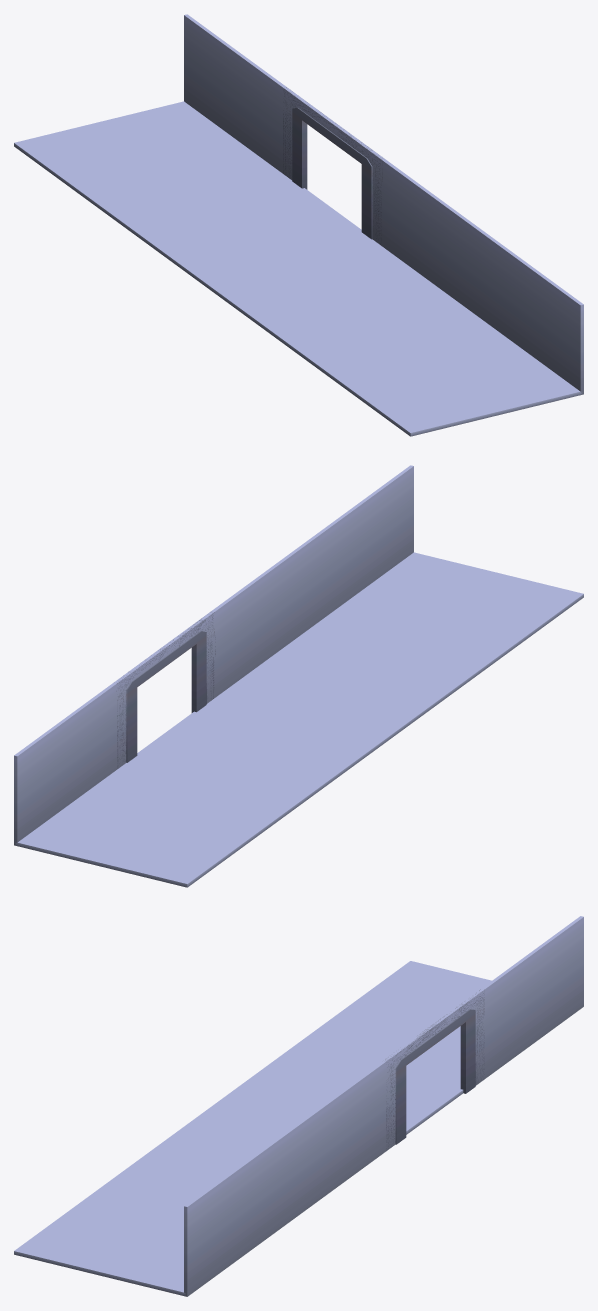
File: OpenStage.glb
The picture shows the model from 3 angles, top to bottom: view 1: azimuth 30°, elevation 25°; view 2: azimuth 150°, elevation 25°; view 3: azimuth 330°, elevation 25°; orthographic projection.
Visible parts, largest first — view 1: floor_physical_object (3), floor_physical_object (1), floor_physical_object (2), floor_physical_object, wall_physical_object (3), wall_physical_object (2), wall_physical_object, wall-doorway_physical_object; view 2: floor_physical_object, floor_physical_object (1), floor_physical_object (2), floor_physical_object (3), wall_physical_object, wall_physical_object (2), wall_physical_object (3), wall-doorway_physical_object; view 3: floor_physical_object (3), floor_physical_object (1), wall_physical_object (3), wall_physical_object (2), wall_physical_object, floor_physical_object, floor_physical_object (2), wall-doorway_physical_object.
Boxes of the visible parts, left/top/right/bottom form: floor_physical_object (3): left=311, top=319, right=582, bottom=436; floor_physical_object (1): left=113, top=174, right=381, bottom=291; floor_physical_object (2): left=212, top=246, right=480, bottom=363; floor_physical_object: left=14, top=101, right=282, bottom=218; wall_physical_object (3): left=481, top=232, right=583, bottom=394; wall_physical_object (2): left=382, top=159, right=484, bottom=318; wall_physical_object: left=184, top=14, right=286, bottom=173; wall-doorway_physical_object: left=283, top=87, right=385, bottom=245; floor_physical_object: left=15, top=770, right=286, bottom=887; floor_physical_object (1): left=117, top=697, right=385, bottom=814; floor_physical_object (2): left=216, top=625, right=484, bottom=742; floor_physical_object (3): left=315, top=552, right=583, bottom=669; wall_physical_object: left=14, top=683, right=116, bottom=845; wall_physical_object (2): left=212, top=538, right=314, bottom=696; wall_physical_object (3): left=311, top=465, right=413, bottom=624; wall-doorway_physical_object: left=113, top=610, right=215, bottom=769; floor_physical_object (3): left=14, top=1178, right=194, bottom=1296; floor_physical_object (1): left=212, top=1033, right=463, bottom=1134; wall_physical_object (3): left=184, top=1133, right=286, bottom=1296; wall_physical_object (2): left=283, top=1061, right=385, bottom=1223; wall_physical_object: left=482, top=916, right=583, bottom=1078; floor_physical_object: left=312, top=961, right=491, bottom=1069; floor_physical_object (2): left=113, top=1106, right=293, bottom=1198; wall-doorway_physical_object: left=382, top=988, right=484, bottom=1151.
Size of the model in its own units: 10.15 by 5 by 40.
3 materials, 3 textured.
